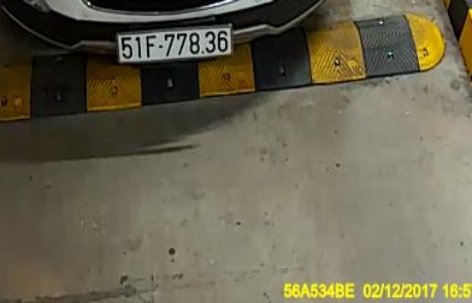plate: (114, 27, 233, 62)
